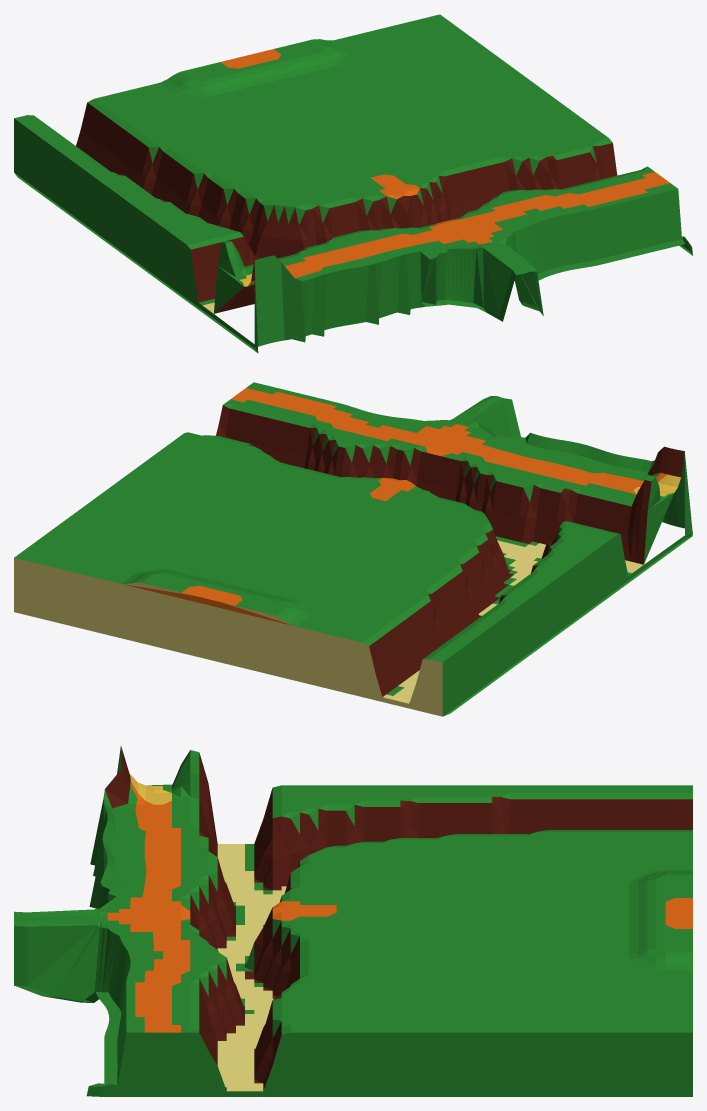
Rendered from CenterPointv2.fbx.
The picture shows the model from 3 angles, top to bottom: view 1: azimuth 30°, elevation 25°; view 2: azimuth 150°, elevation 25°; view 3: azimuth 270°, elevation 25°; orthographic projection. The views are drawn at different scales.
Visible parts, largest first — view 1: CenterPointv2triangulated; view 2: CenterPointv2triangulated; view 3: CenterPointv2triangulated.
Boxes of the visible parts, x1=… form: CenterPointv2triangulated: x1=14, y1=14, x2=692, y2=353; CenterPointv2triangulated: x1=14, y1=382, x2=692, y2=716; CenterPointv2triangulated: x1=14, y1=746, x2=692, y2=1096.
Bounding box in the file's own units: 20108 × 4211 × 23213.
